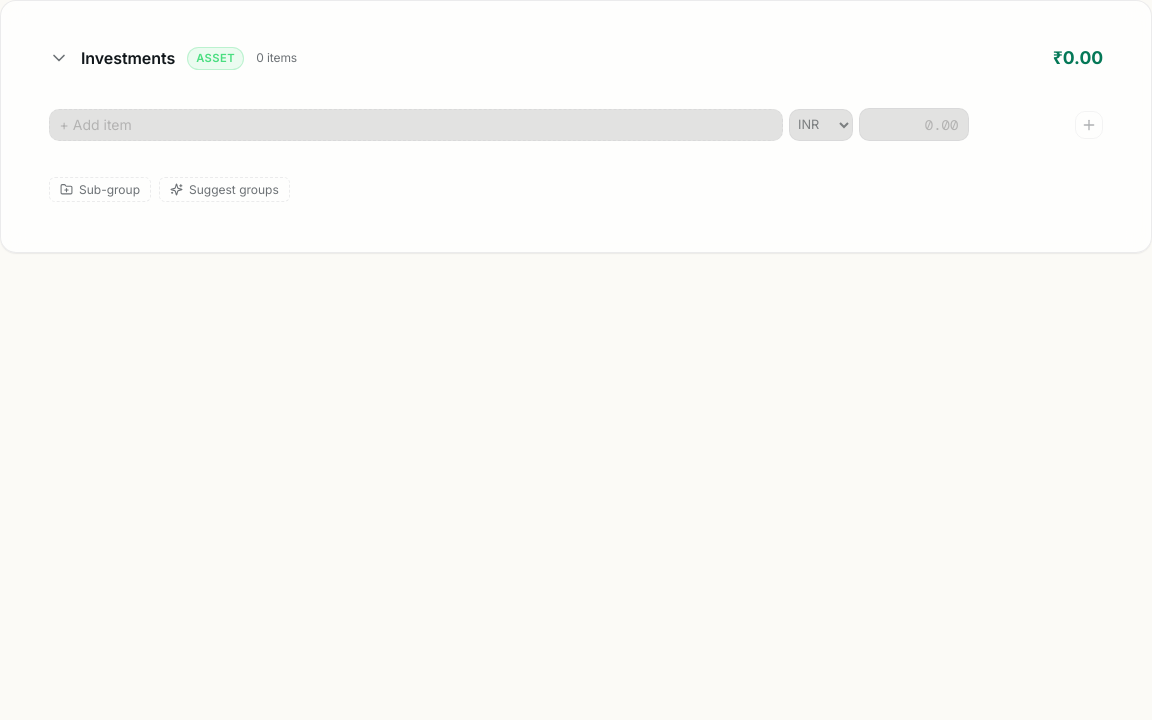
Test case: CategorySection without sub-categories › opens the picker rather than adding every suggestion at once
Click the button with aria-label "Add suggested sub-groups to Investments". click: point(224, 190)
box: [159, 177, 290, 202]
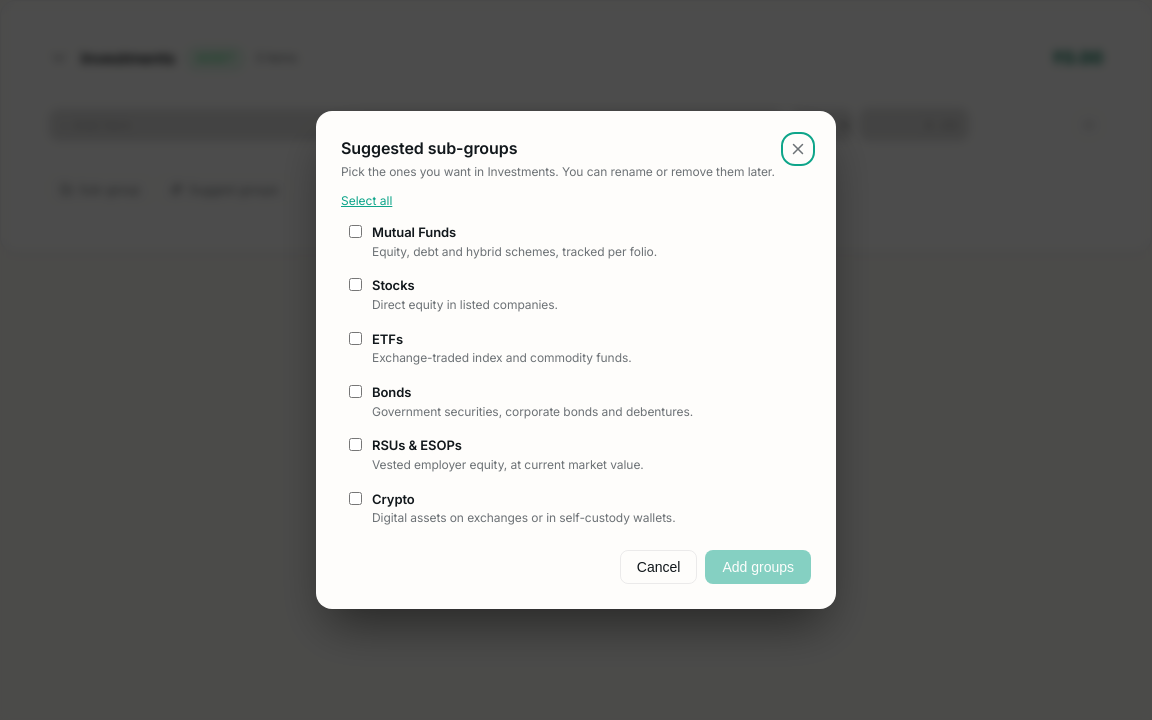
Check: the dialog is shown, box [316, 111, 836, 609]
